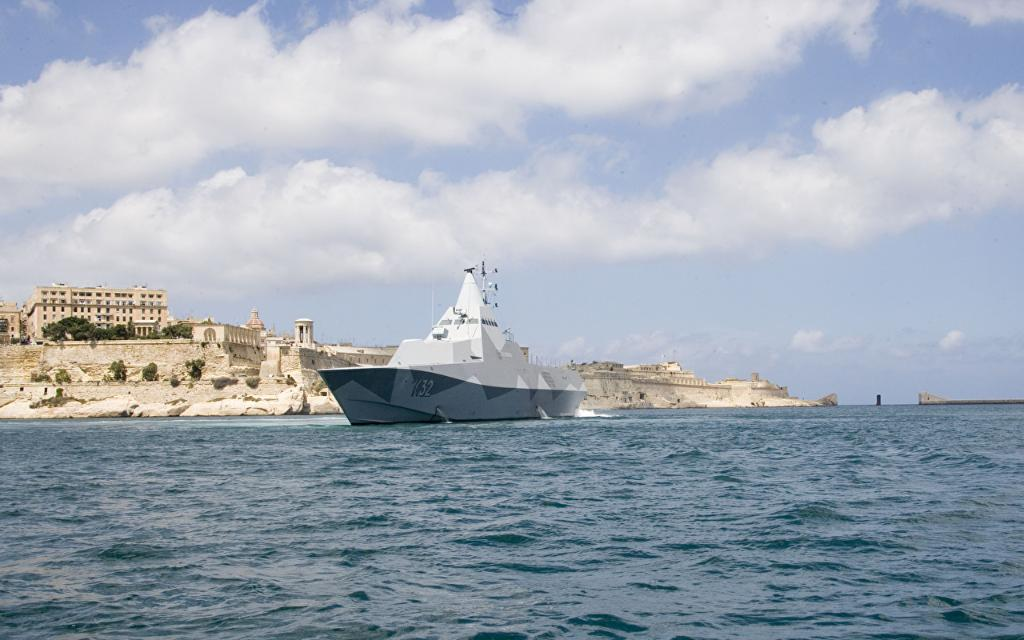Warship: (315, 256, 591, 429)
